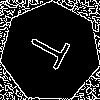T: (25, 27, 79, 76)
